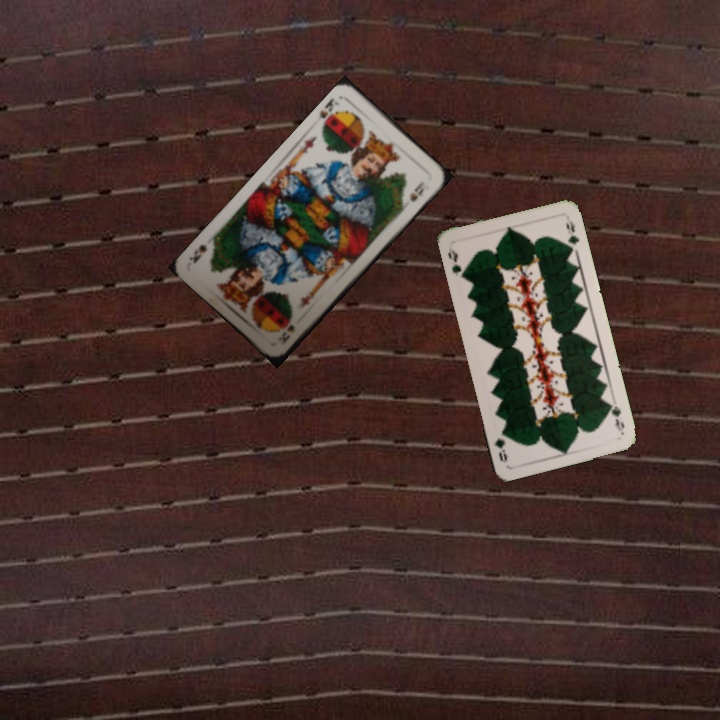G9: (444, 243, 468, 281), (604, 399, 627, 436)
SK: (315, 94, 337, 121), (278, 320, 297, 347)
